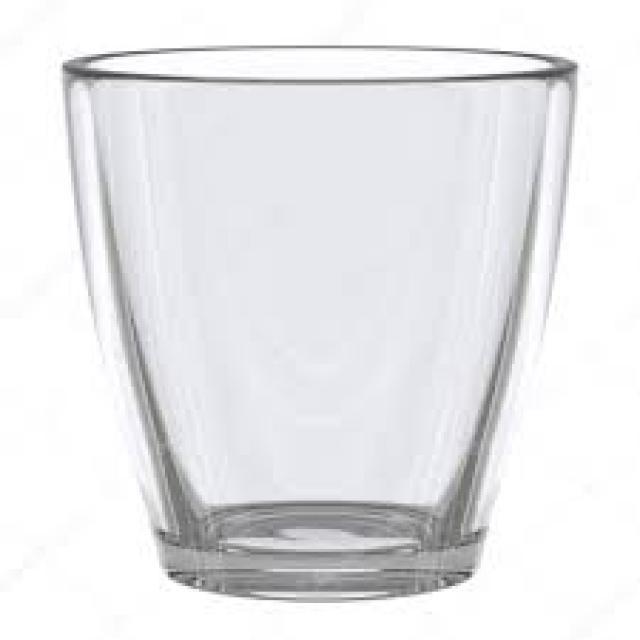Glass: (61, 40, 576, 604)
